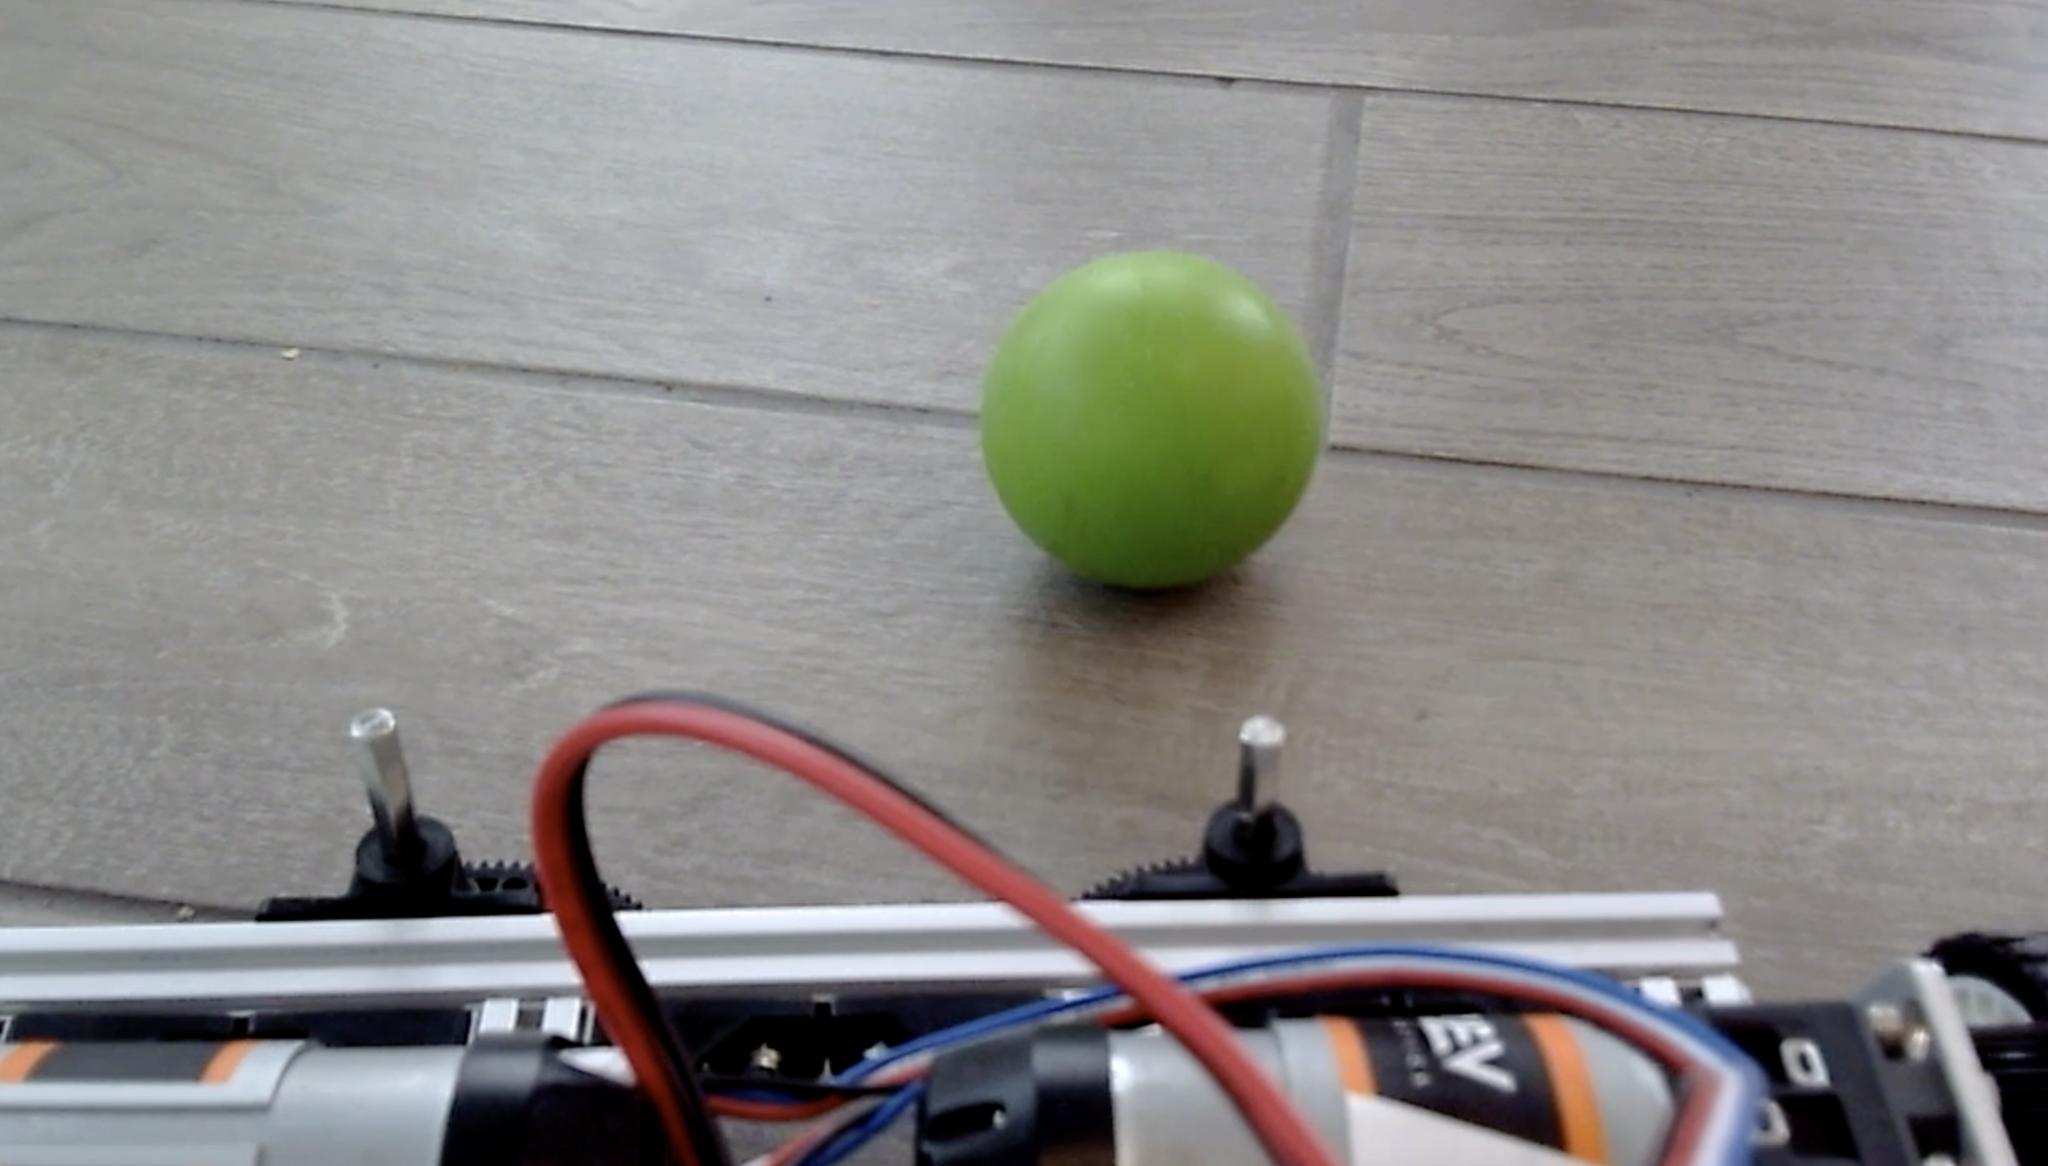greenball: (978, 243, 1326, 592)
